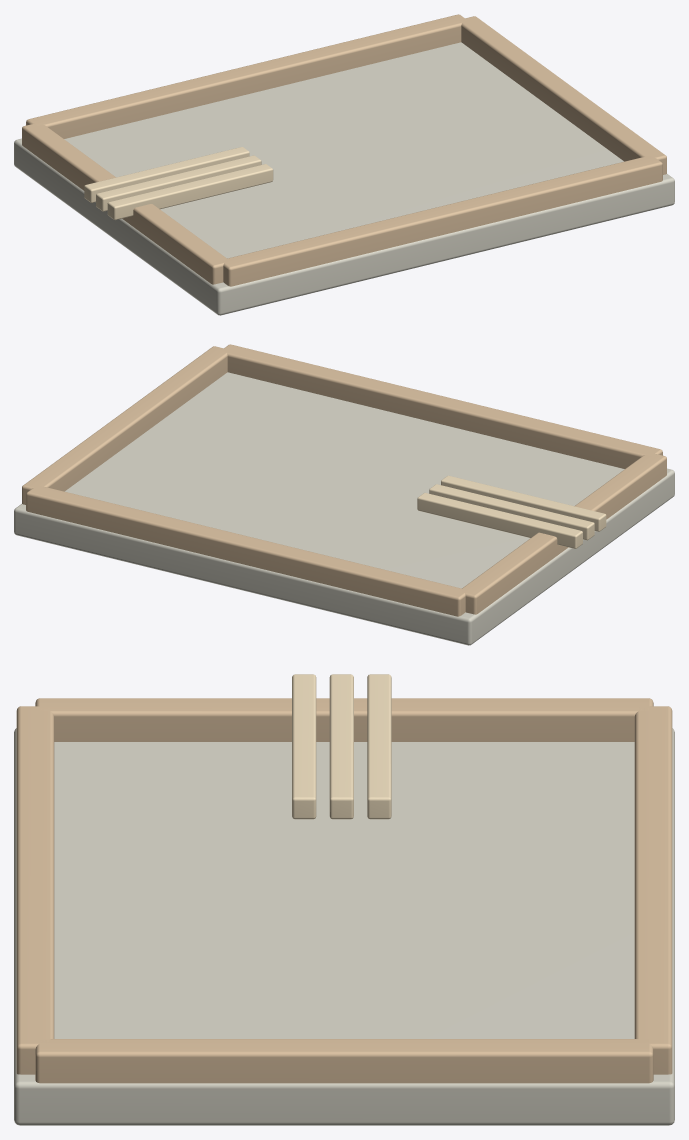
The model's file is kitchen-garden-foundation.glb.
3 views of the same model, one above another, from view 1: azimuth 30°, elevation 25°; view 2: azimuth 150°, elevation 25°; view 3: azimuth 270°, elevation 25° (orthographic). The views are drawn at different scales.
Parts seen in each view (by area): view 1: Rounded stone footing.028, Sill beam.112, Sill beam.113, Sill beam.115, Sill beam.114, Staged lumber.021, Staged lumber.022, Staged lumber.023; view 2: Rounded stone footing.028, Sill beam.113, Sill beam.112, Sill beam.115, Sill beam.114, Staged lumber.023, Staged lumber.021, Staged lumber.022; view 3: Rounded stone footing.028, Sill beam.115, Sill beam.114, Sill beam.113, Sill beam.112, Staged lumber.023, Staged lumber.021, Staged lumber.022.
Boxes of the visible parts, x1,y1,x2,y2 form: Rounded stone footing.028: [14, 42, 674, 315]; Sill beam.112: [222, 156, 662, 286]; Sill beam.113: [26, 14, 467, 138]; Sill beam.115: [461, 16, 666, 174]; Sill beam.114: [22, 123, 229, 284]; Staged lumber.021: [107, 164, 273, 219]; Staged lumber.022: [96, 155, 261, 211]; Staged lumber.023: [84, 147, 249, 202]; Rounded stone footing.028: [14, 372, 674, 645]; Sill beam.113: [26, 486, 466, 616]; Sill beam.112: [221, 344, 662, 468]; Sill beam.115: [22, 346, 228, 504]; Sill beam.114: [461, 453, 666, 614]; Staged lumber.023: [417, 492, 582, 548]; Staged lumber.021: [441, 475, 606, 531]; Staged lumber.022: [429, 484, 594, 540]; Rounded stone footing.028: [14, 728, 674, 1125]; Sill beam.115: [35, 1039, 653, 1083]; Sill beam.114: [35, 698, 653, 741]; Sill beam.113: [634, 706, 672, 1074]; Sill beam.112: [16, 706, 54, 1074]; Staged lumber.023: [367, 674, 391, 819]; Staged lumber.021: [292, 674, 316, 819]; Staged lumber.022: [329, 674, 353, 819].
Bounding box in the file's own units: 3.28 × 0.335 × 2.46.
